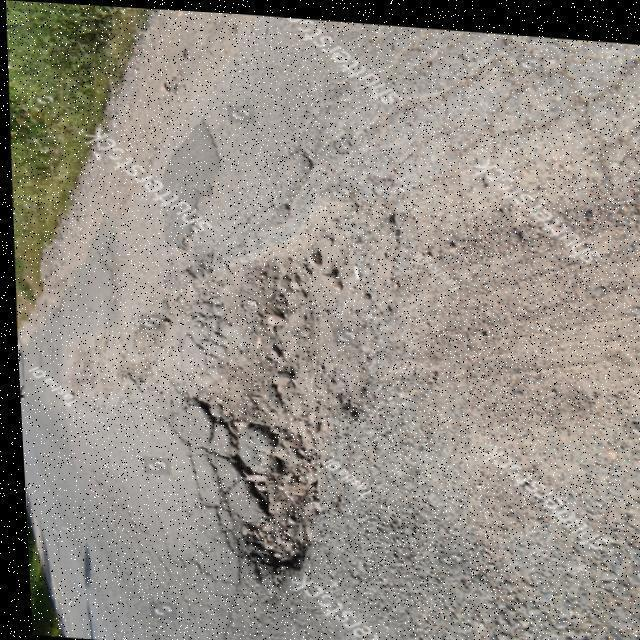Pothole: (122, 177, 410, 585)
